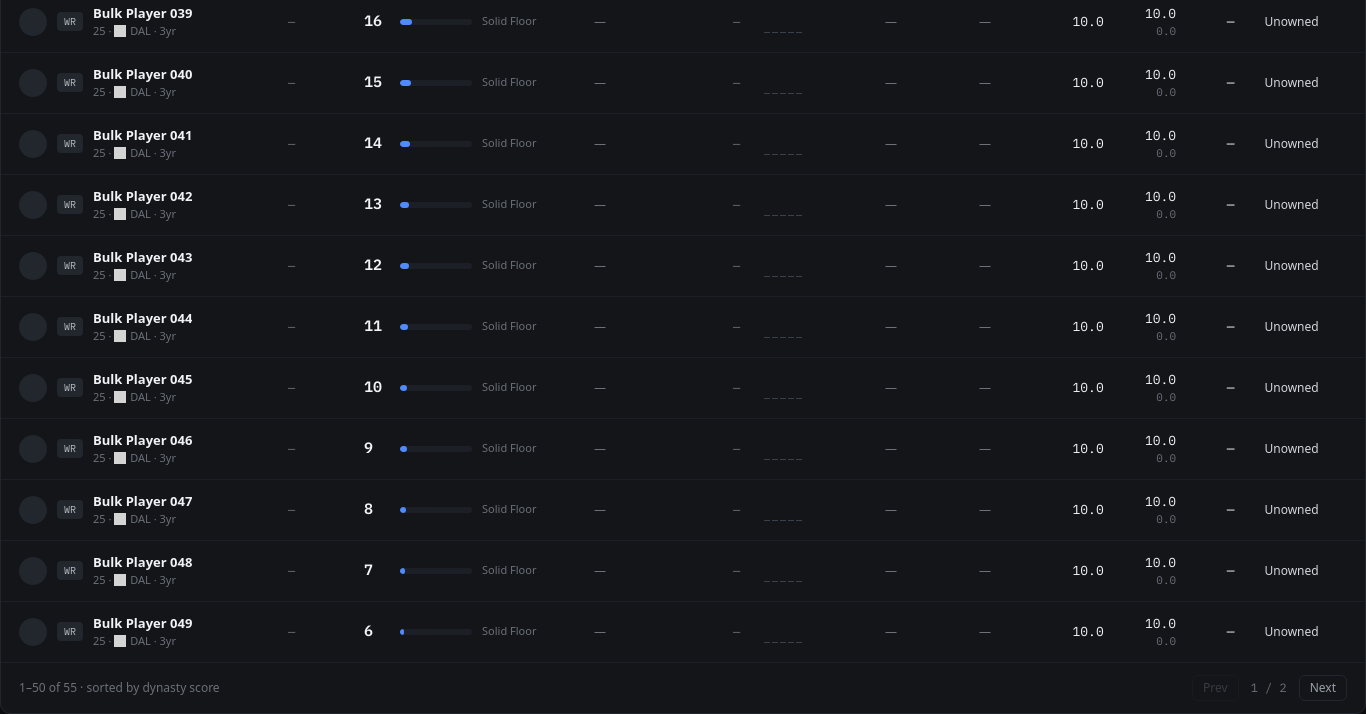
Test: Market › search (1b Slice vii) › resets page to 1 on change, like every other filter
This screenshot has width=1366, height=714.
(page scrolled)
Click the button "Next" at coordinates (1323, 688), box [1299,674,1347,700]
(page scrolled)
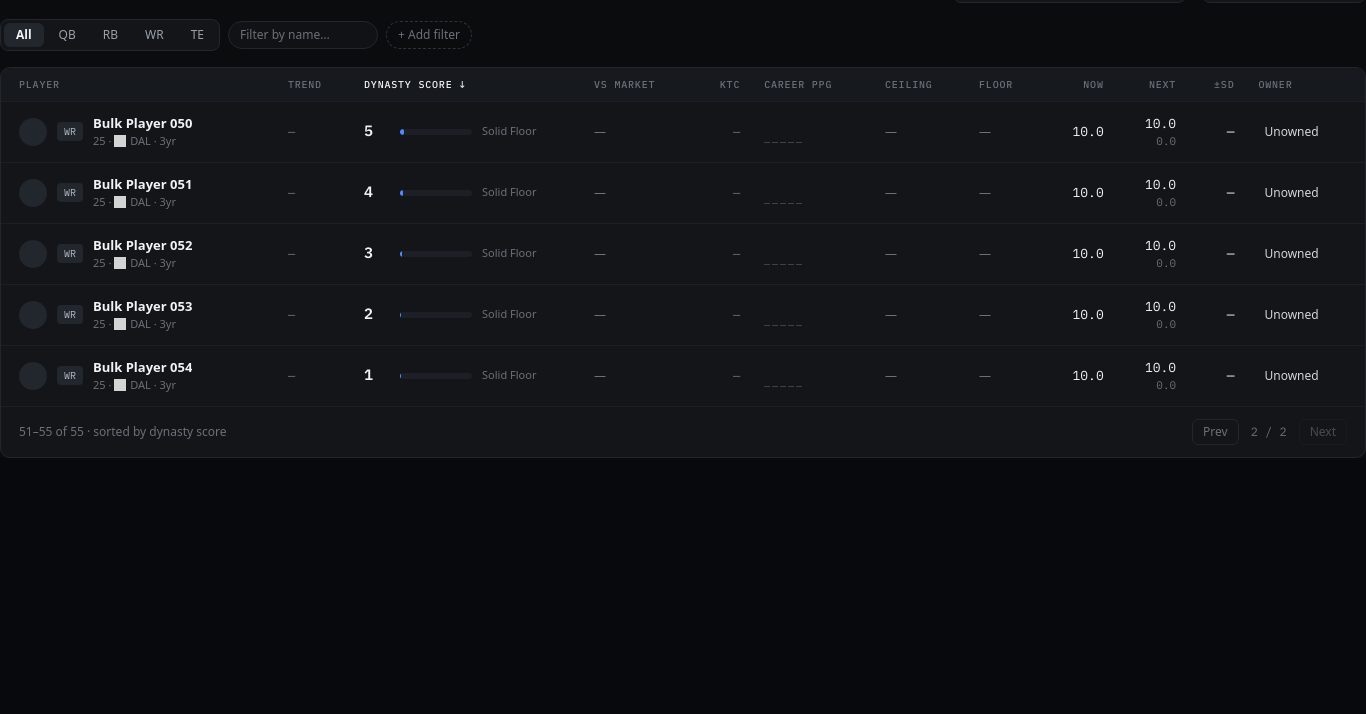
Result: the text "51–55 of 55 · sorted by dynasty score" is shown at [19,424,226,440]
Type "Bulk" into the field named "Filter players by name" at coordinates (303, 34), box [228,20,378,48]
(page scrolled)
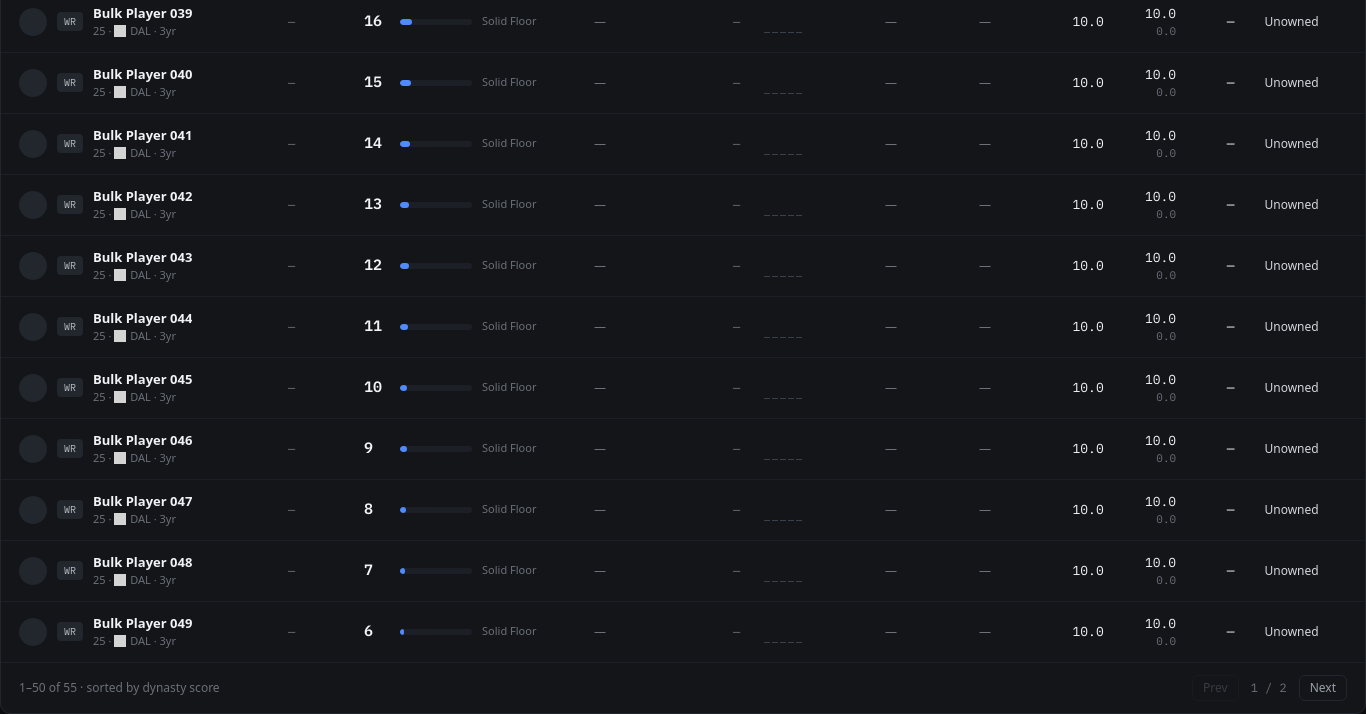
Result: the text "1–50 of 55 · sorted by dynasty score" is shown at [19,680,220,696]
